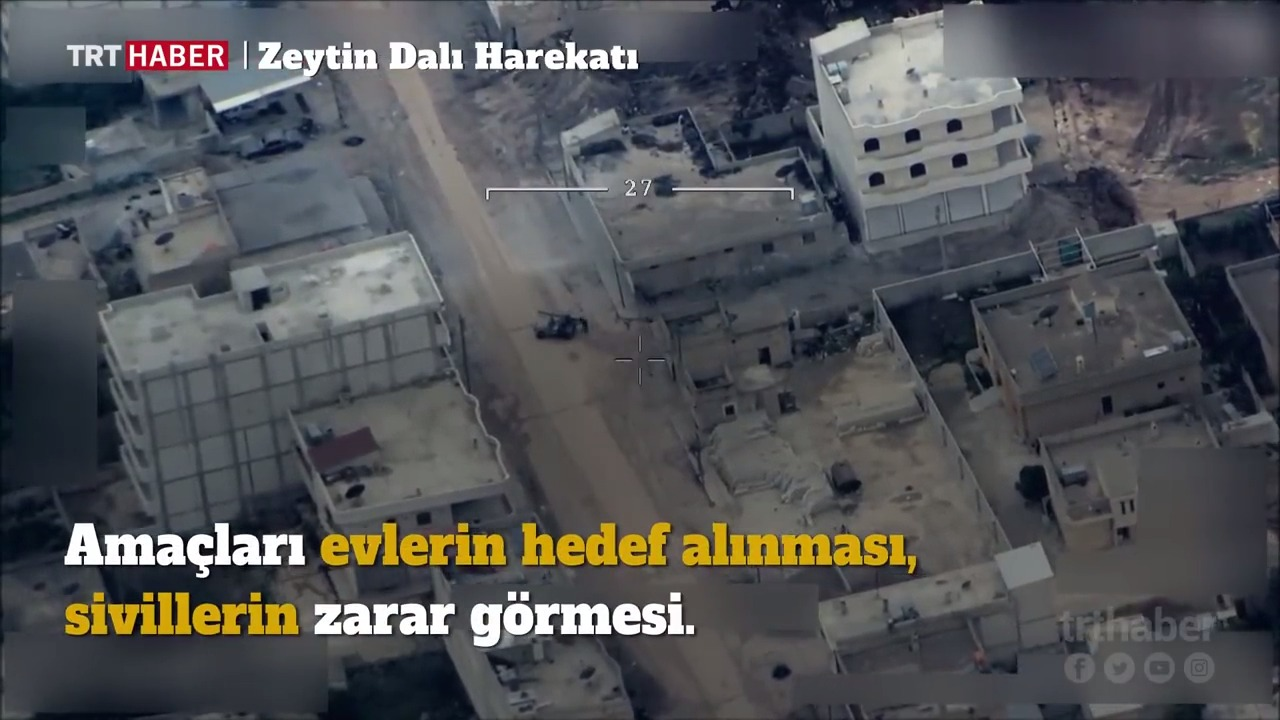arac: (239, 121, 303, 164), (218, 94, 273, 121), (534, 307, 573, 342)
bina: (98, 228, 439, 534), (801, 3, 1054, 241), (545, 104, 840, 304), (972, 255, 1201, 427), (293, 377, 507, 531)
insan: (578, 310, 588, 335)
